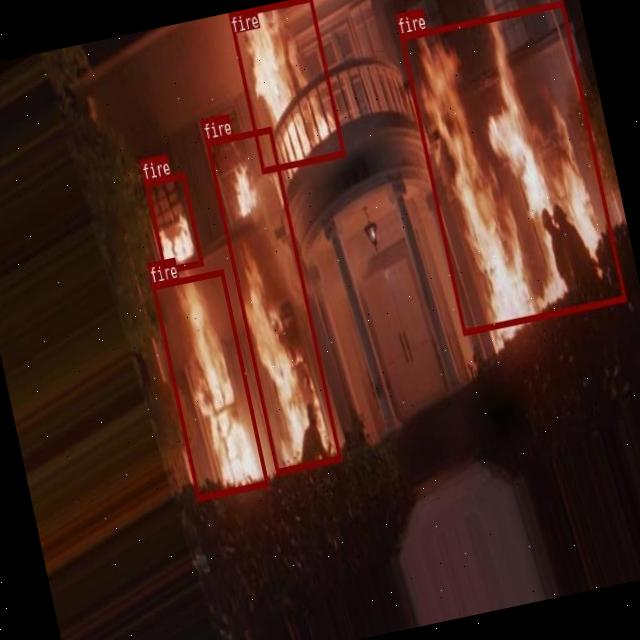fire: (399, 0, 625, 333), (204, 126, 340, 473), (151, 268, 268, 500), (227, 0, 345, 172), (143, 172, 202, 272)
